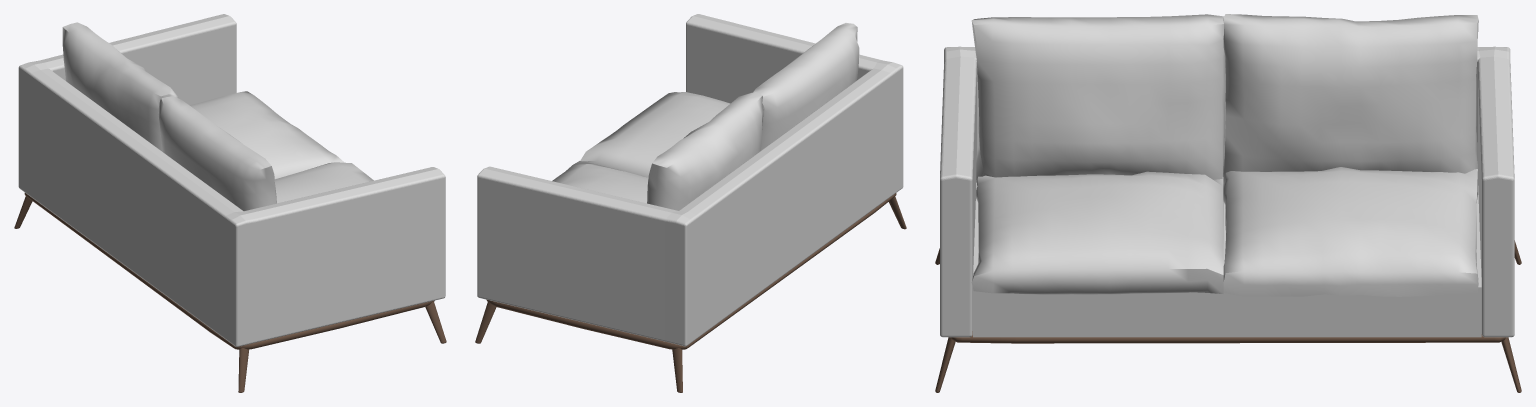
Rendered from sofa.glb.
3 views of the same model, side by side, from view 1: azimuth 30°, elevation 25°; view 2: azimuth 150°, elevation 25°; view 3: azimuth 270°, elevation 25° (orthographic). The views are drawn at different scales.
Parts seen in each view (by area): view 1: Circle, Cylinder.001; view 2: Circle, Cylinder.001; view 3: Circle, Cylinder.001.
Part boxes in pixels (left/top/right/bottom): Circle: left=18, top=14, right=445, bottom=346; Cylinder.001: left=14, top=193, right=446, bottom=392; Circle: left=477, top=14, right=903, bottom=346; Cylinder.001: left=475, top=193, right=906, bottom=392; Circle: left=940, top=14, right=1514, bottom=337; Cylinder.001: left=935, top=240, right=1521, bottom=392.
Size of the model in its own units: 1.11 by 1.01 by 1.99.
